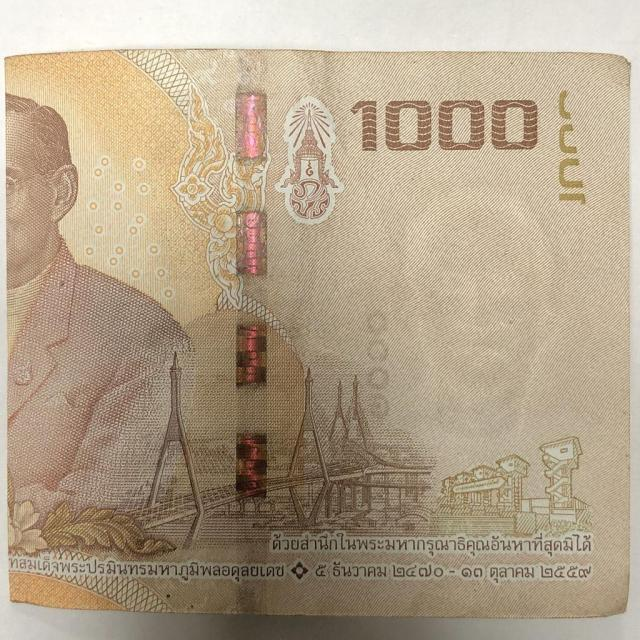THAI1000: (2, 48, 631, 620)
